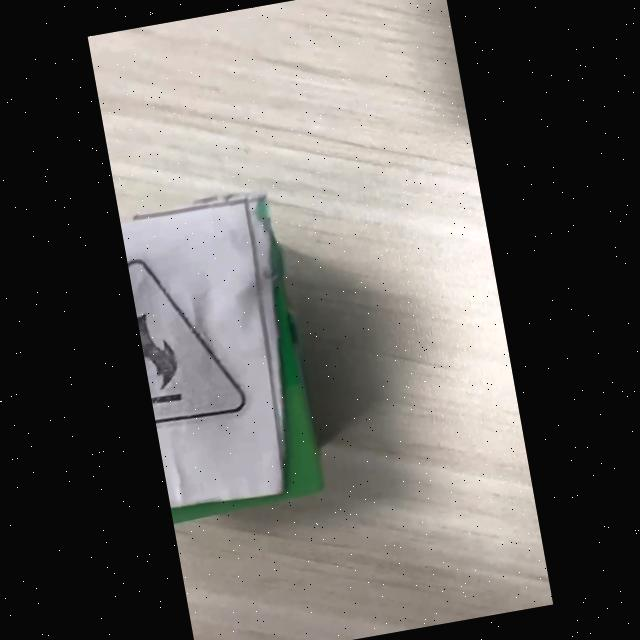Fire: (128, 259, 244, 425)
